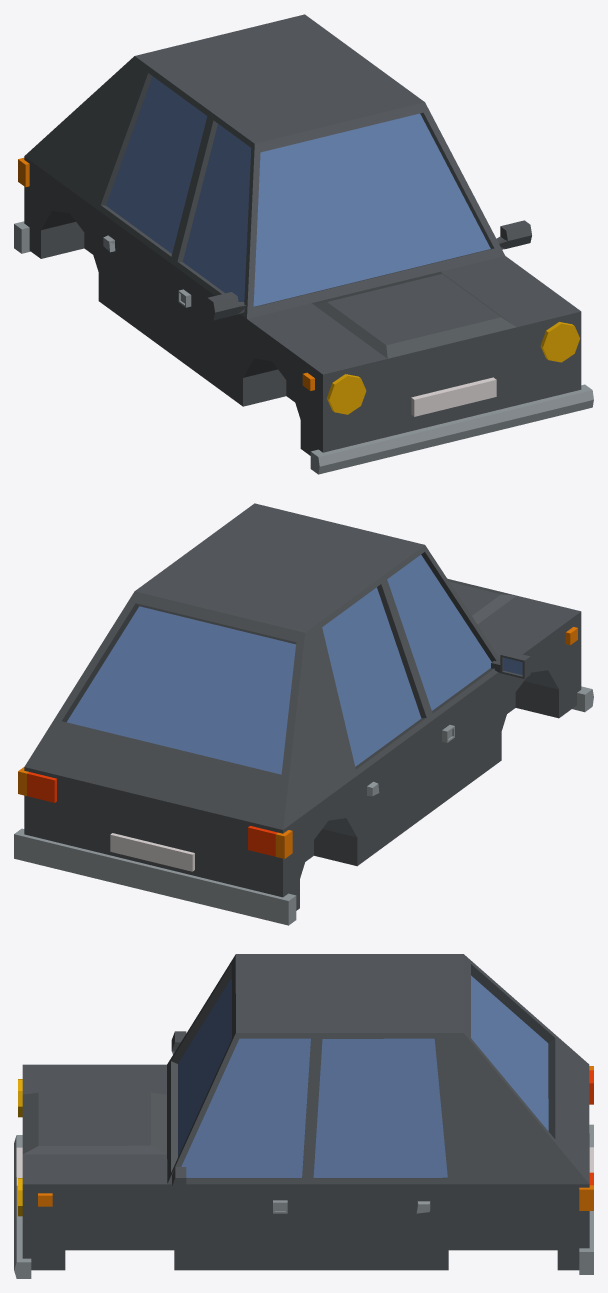
The model's file is Car_04.fbx.
The picture shows the model from 3 angles, top to bottom: view 1: azimuth 30°, elevation 25°; view 2: azimuth 150°, elevation 25°; view 3: azimuth 270°, elevation 25°; orthographic projection. The views are drawn at different scales.
Parts seen in each view (by area): view 1: Car_04; view 2: Car_04; view 3: Car_04.
Boxes of the visible parts, <box> form: Car_04: <box>14,14,593,474</box>; Car_04: <box>14,503,593,925</box>; Car_04: <box>14,954,593,1278</box>.
Bounding box in the file's own units: 4.02 × 2.83 × 6.71.
